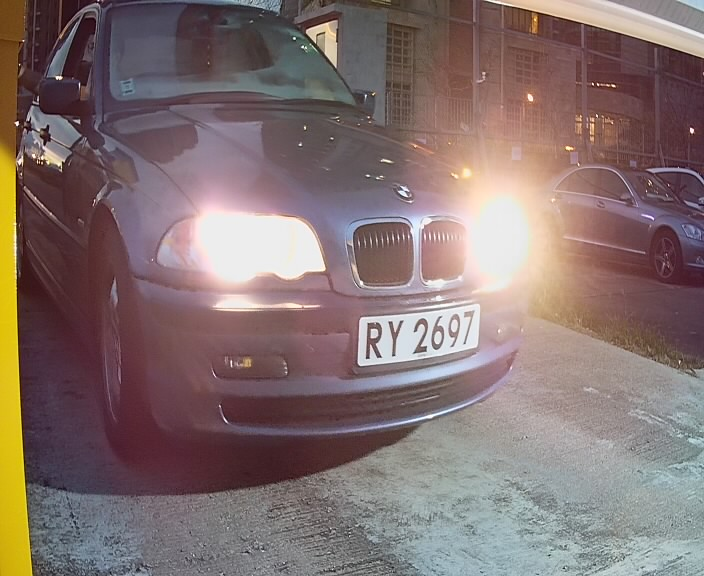Car: (40, 19, 542, 476)
License Plate: (342, 296, 497, 378)
